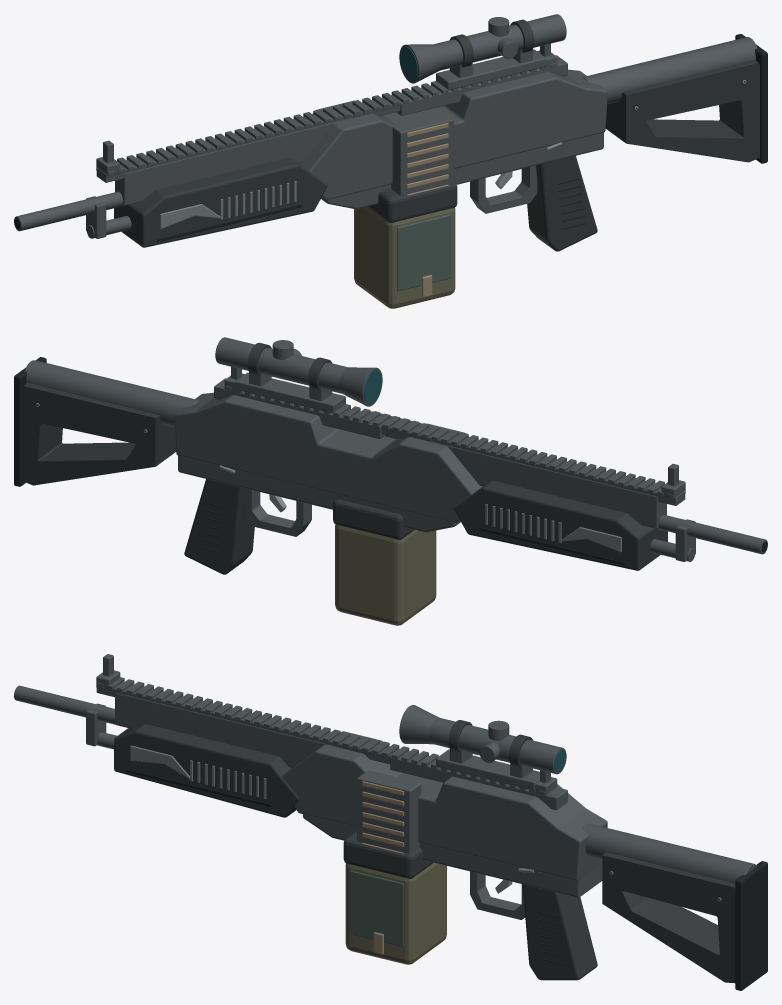
File: qjb201.glb
The picture shows the model from 3 angles, top to bottom: view 1: azimuth 30°, elevation 25°; view 2: azimuth 150°, elevation 25°; view 3: azimuth 330°, elevation 25°; orthographic projection.
Visible parts, largest first — view 1: part_body_surfaces, part_stock_surfaces, part_sights_surfaces, part_magazine_surfaces, part_handguard_surfaces, part_optic_surfaces, part_grip_surfaces, part_details_surfaces, part_barrel_surfaces; view 2: part_body_surfaces, part_stock_surfaces, part_sights_surfaces, part_handguard_surfaces, part_magazine_surfaces, part_optic_surfaces, part_grip_surfaces, part_barrel_surfaces; view 3: part_body_surfaces, part_stock_surfaces, part_sights_surfaces, part_magazine_surfaces, part_handguard_surfaces, part_optic_surfaces, part_grip_surfaces, part_details_surfaces, part_barrel_surfaces.
Boxes of the visible parts, box(x1,y1,x2,y2) form: part_body_surfaces: box(299, 69, 607, 209); part_stock_surfaces: box(582, 34, 767, 163); part_sights_surfaces: box(96, 43, 567, 205); part_magazine_surfaces: box(354, 182, 457, 308); part_handguard_surfaces: box(114, 157, 327, 247); part_optic_surfaces: box(399, 14, 566, 90); part_grip_surfaces: box(470, 156, 597, 251); part_details_surfaces: box(391, 112, 567, 195); part_barrel_surfaces: box(14, 191, 131, 238); part_body_surfaces: box(174, 392, 482, 532); part_stock_surfaces: box(14, 357, 199, 486); part_sights_surfaces: box(214, 366, 685, 528); part_handguard_surfaces: box(454, 480, 667, 570); part_magazine_surfaces: box(333, 499, 436, 625); part_optic_surfaces: box(215, 337, 382, 413); part_grip_surfaces: box(184, 479, 311, 574); part_barrel_surfaces: box(650, 514, 767, 561); part_body_surfaces: box(282, 731, 607, 897); part_stock_surfaces: box(582, 823, 767, 990); part_sights_surfaces: box(96, 654, 567, 810); part_magazine_surfaces: box(343, 832, 446, 964); part_handguard_surfaces: box(114, 724, 299, 817); part_optic_surfaces: box(399, 705, 566, 790); part_grip_surfaces: box(470, 871, 597, 980); part_details_surfaces: box(357, 770, 540, 877); part_barrel_surfaces: box(14, 685, 117, 749).
Bounding box in the file's own units: 331 × 104 × 31.43.
